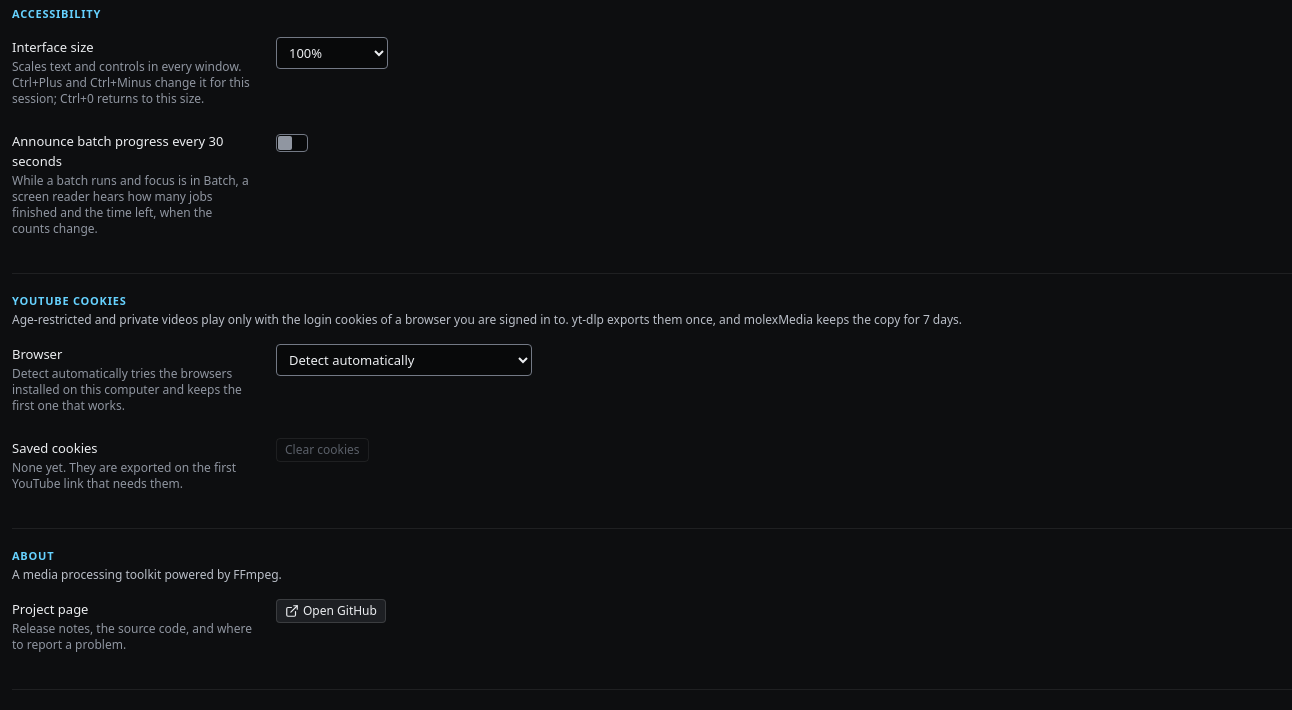
Test case: YouTube cookies › names an export that failed, from the answer or from a throw
(page scrolled)
Select "Firefox" in the dropdown labelled "Browser" at coordinates (404, 360), box [276, 344, 532, 376]
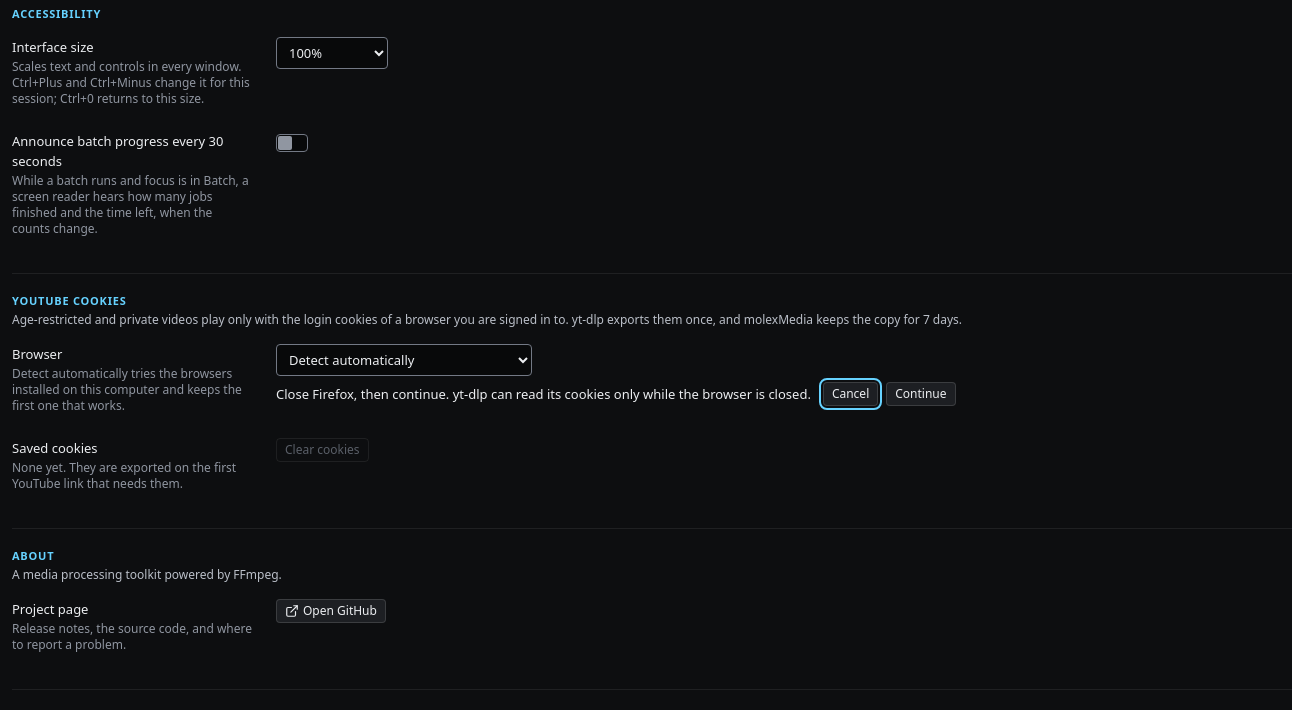
Click the button "Continue" at coordinates (921, 394), box [886, 382, 956, 406]
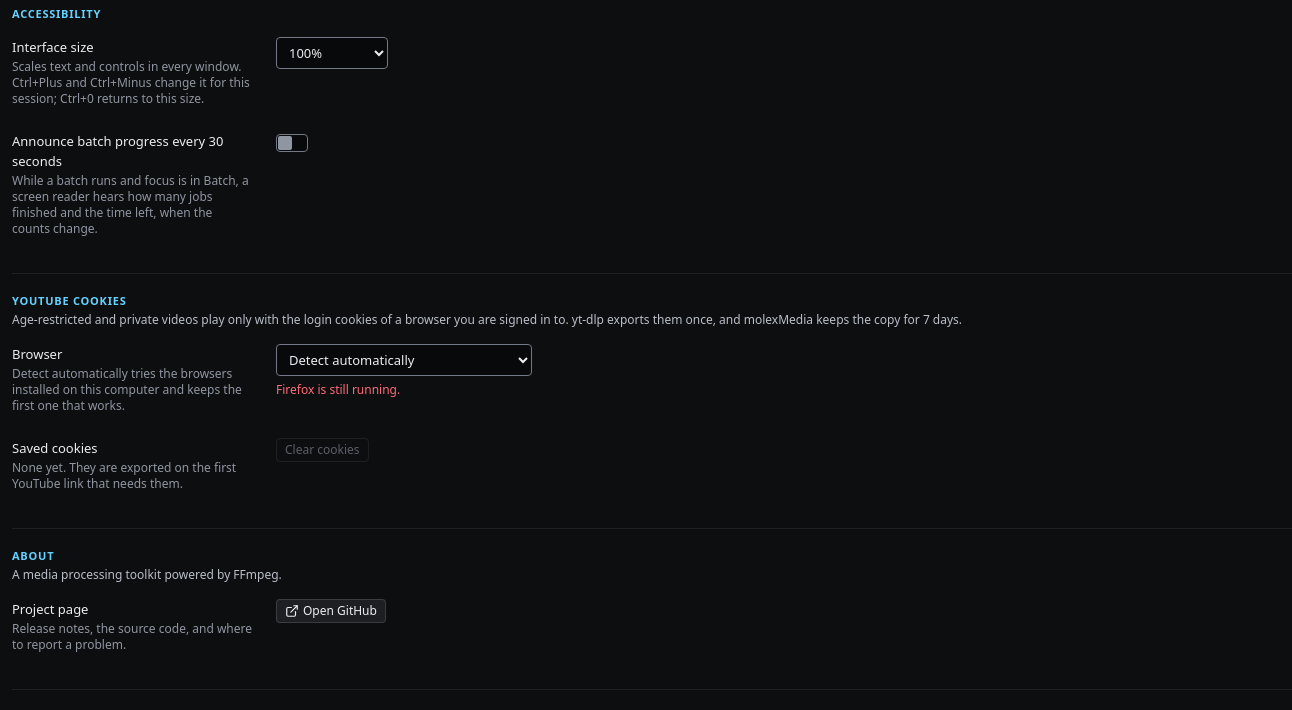
Now the message reads "Firefox is still running.", box [276, 381, 400, 398]
Select "Google Chrome" in the dropdown labelled "Browser" at coordinates (404, 360), box [276, 344, 532, 376]
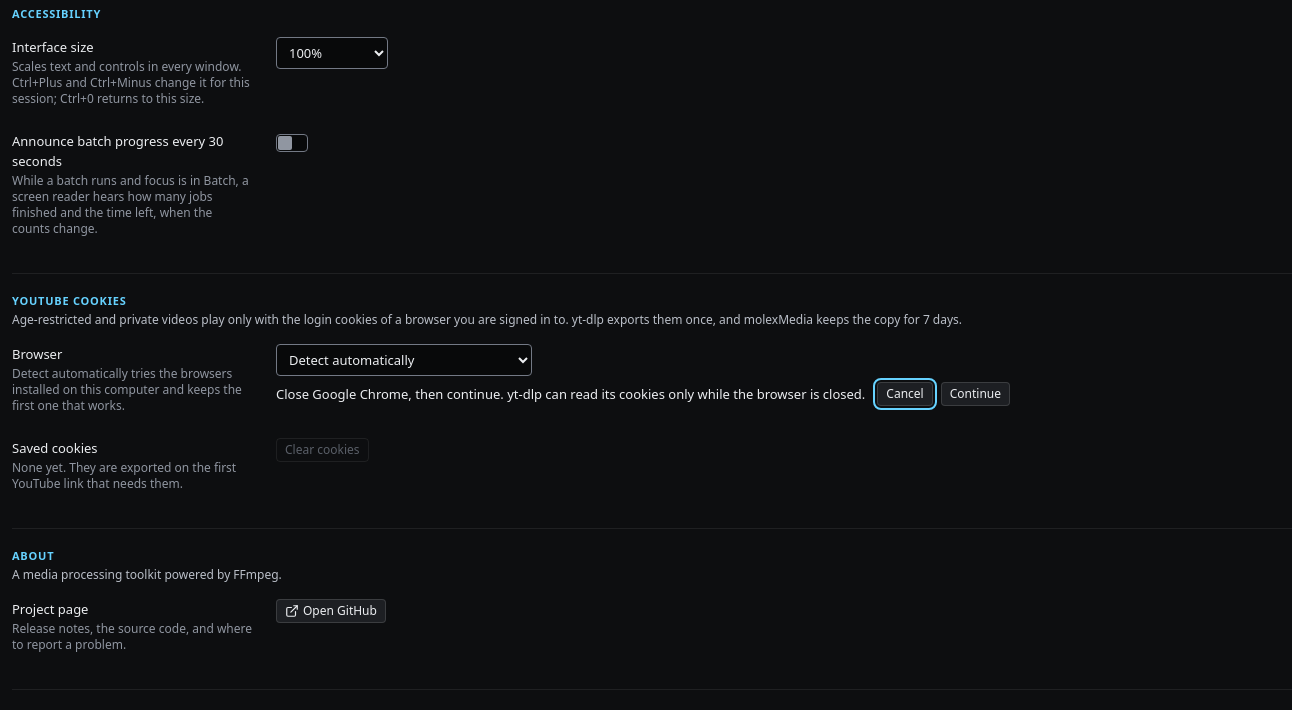
Click the button "Continue" at coordinates (975, 394), box [941, 382, 1010, 406]
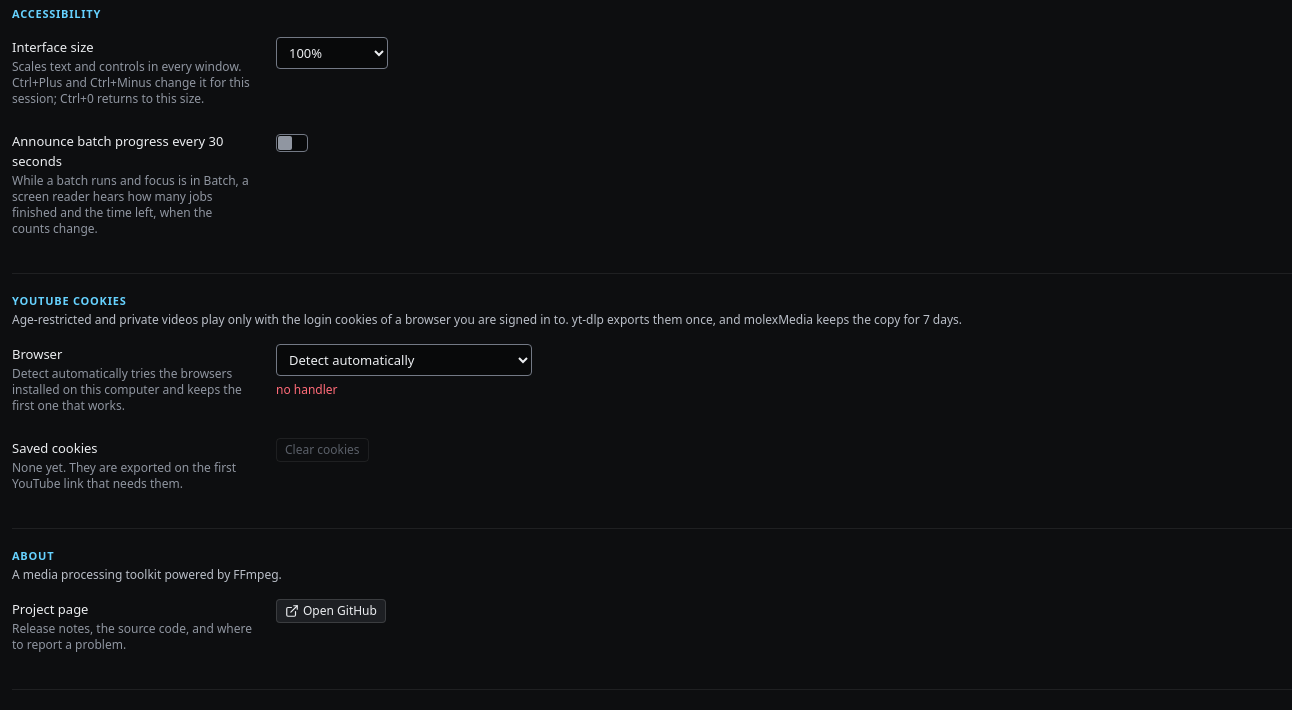
Now the message reads "no handler", box [276, 381, 338, 398]
Select "Google Chrome" in the dropdown labelled "Browser" at coordinates (404, 360), box [276, 344, 532, 376]
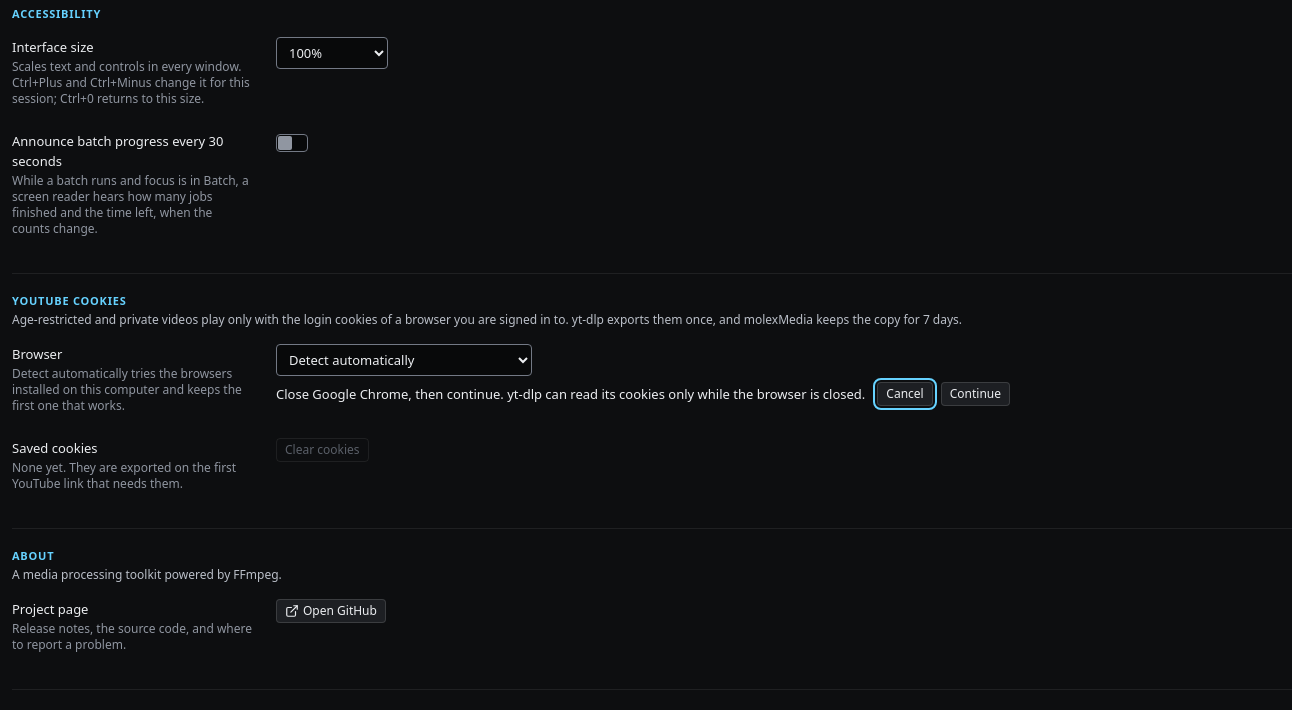
Click the button "Continue" at coordinates (975, 394), box [941, 382, 1010, 406]
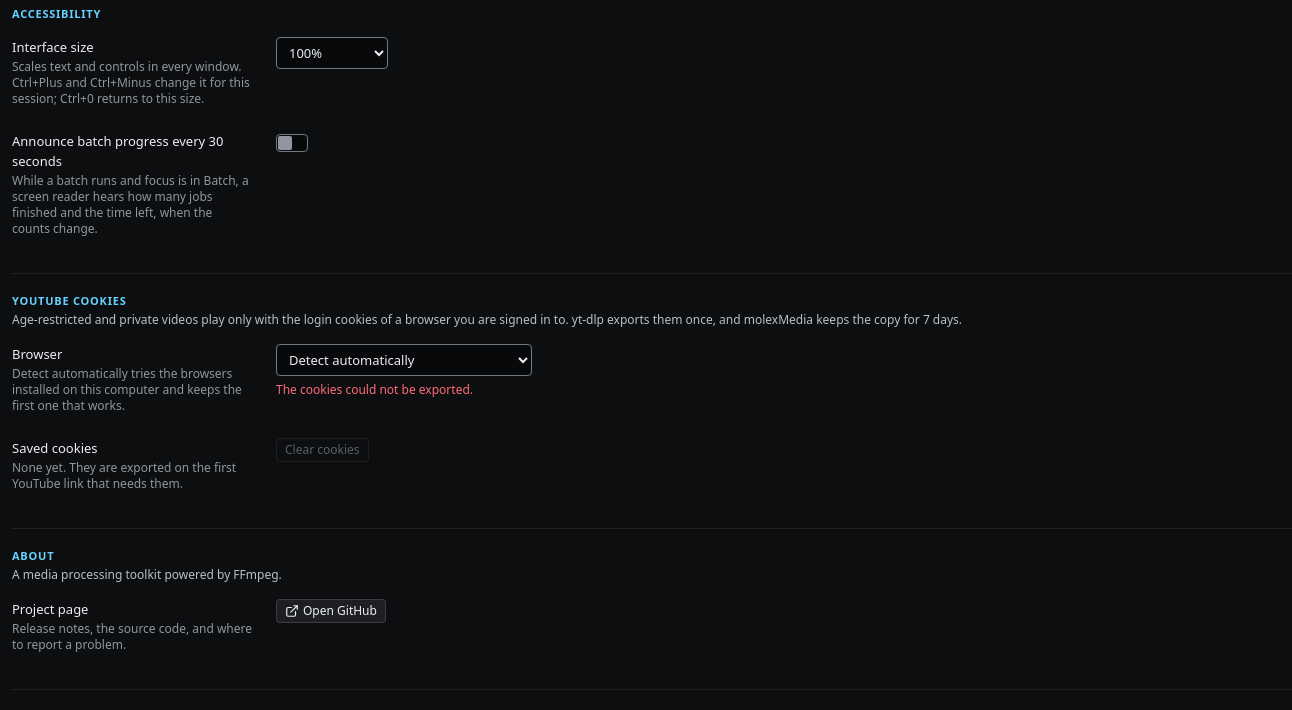
Now the message reads "The cookies could not be exported.", box [276, 381, 473, 398]
